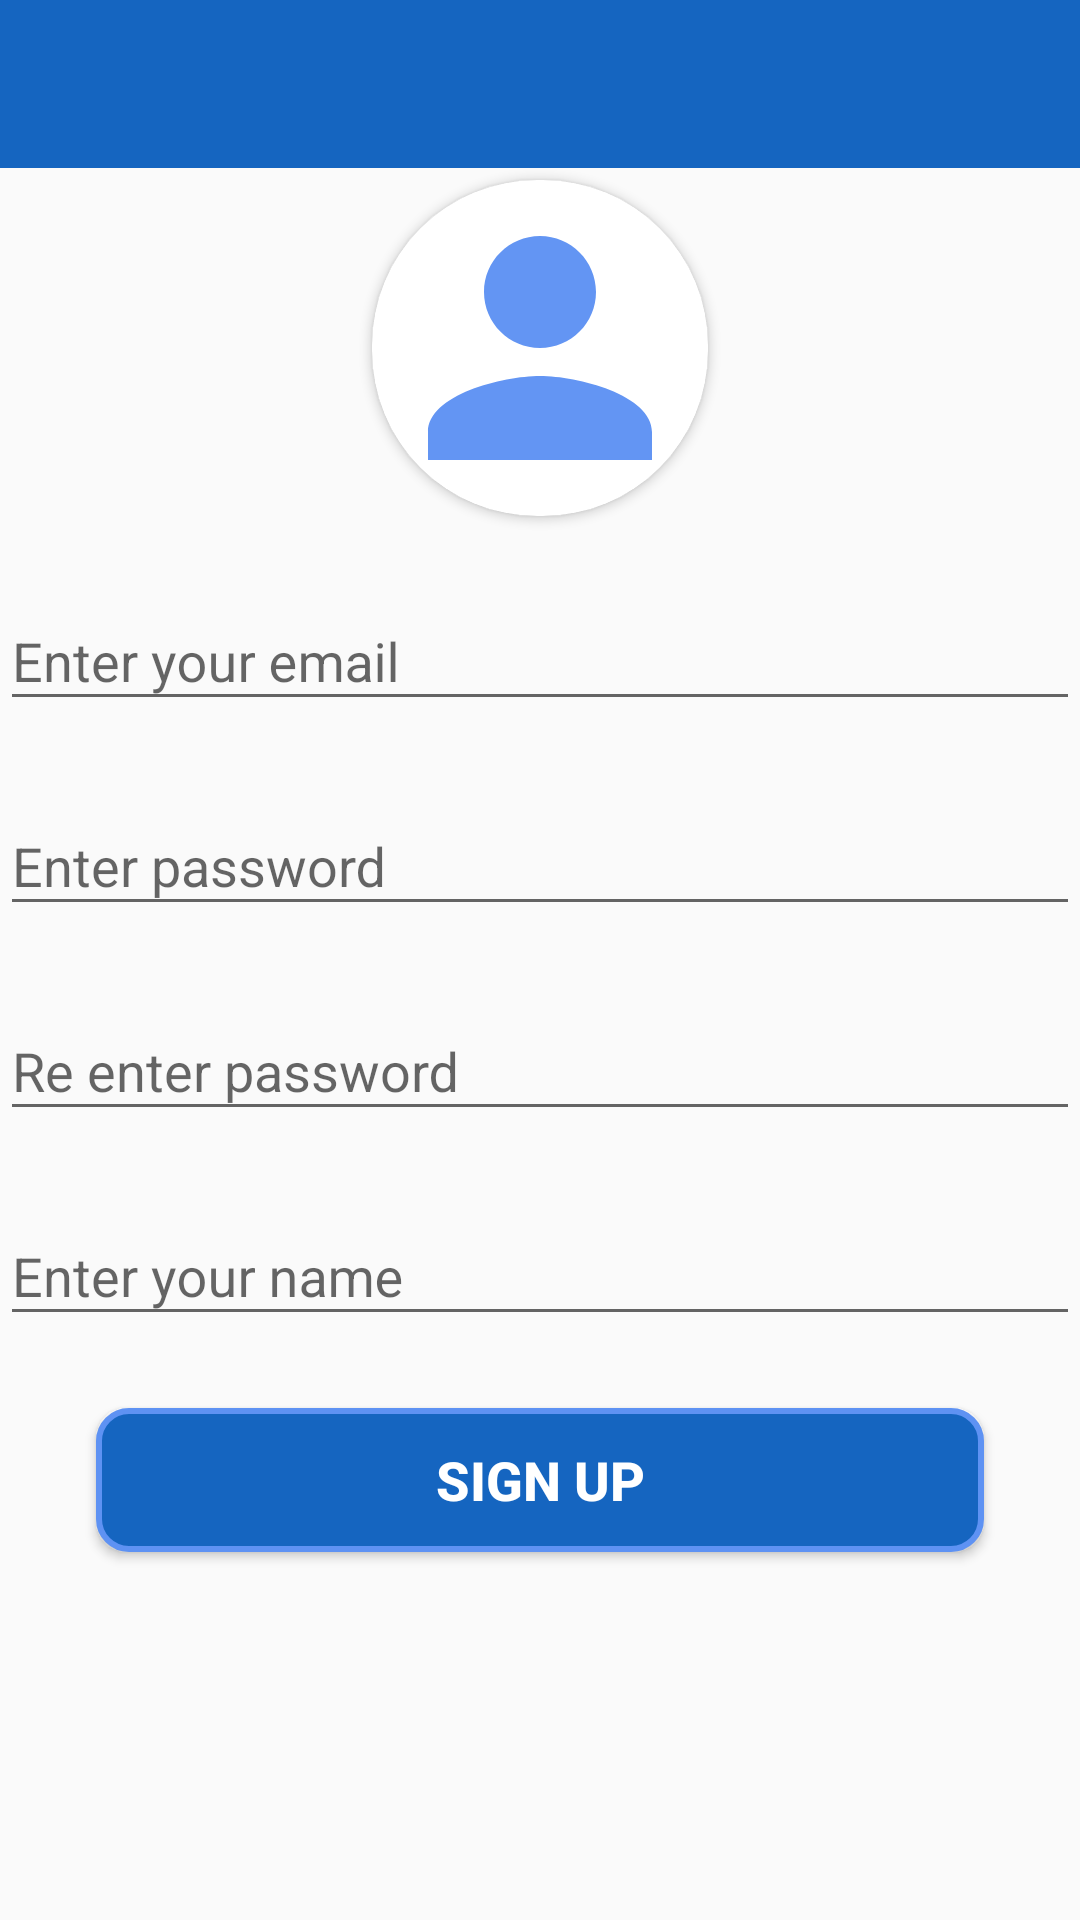

Named icons in this screenshot (1080*1920) and their bounding boxes, (x1=x1, y1=y1, x2=x2, y2=y2):
person: (x1=372, y1=180, x2=708, y2=516)
